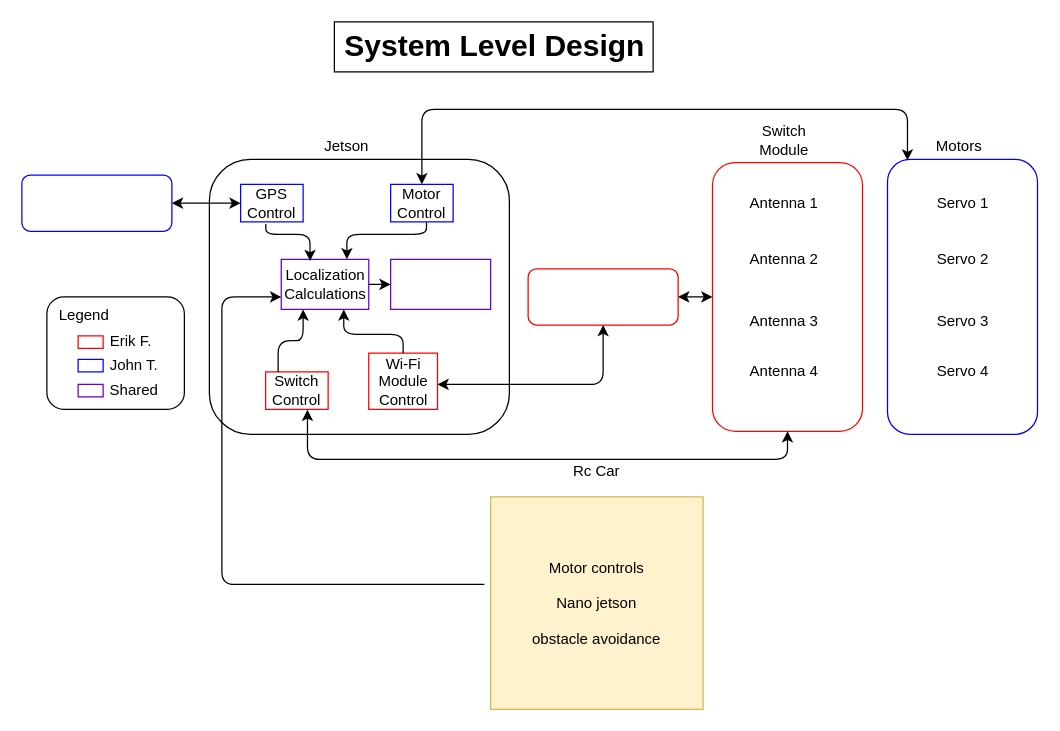
Some shapes in this 1060 by 731 pixel diagram are drawn without their labels. Each missing label, with the centre of its shape:
"GPS Module" goes at (x=96, y=202).
"Graphical Interpretation" goes at (x=440, y=283).
"Wi-Fi Module" goes at (x=602, y=296).
